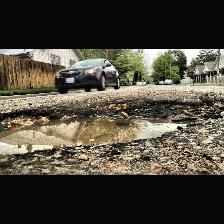pothole: (0, 94, 224, 156)
